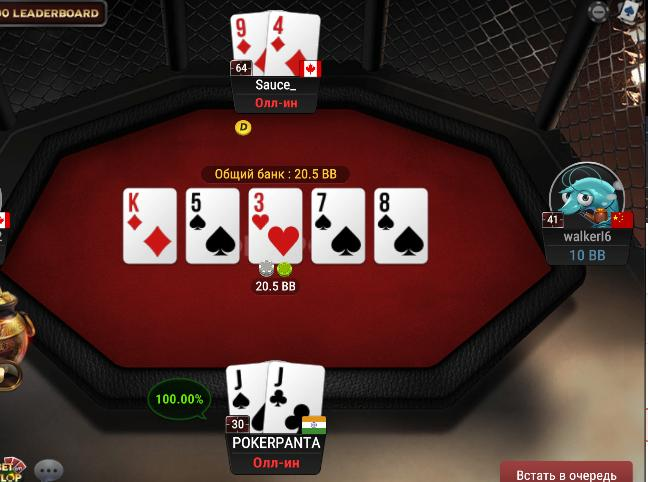3h: (249, 188, 302, 263)
4d: (266, 9, 319, 79)
5s: (186, 189, 239, 263)
7s: (313, 189, 365, 263)
8s: (375, 189, 427, 264)
9d: (229, 11, 268, 76)
Jc: (265, 361, 325, 436)
Js: (225, 364, 268, 431)
Kd: (124, 188, 177, 261)
